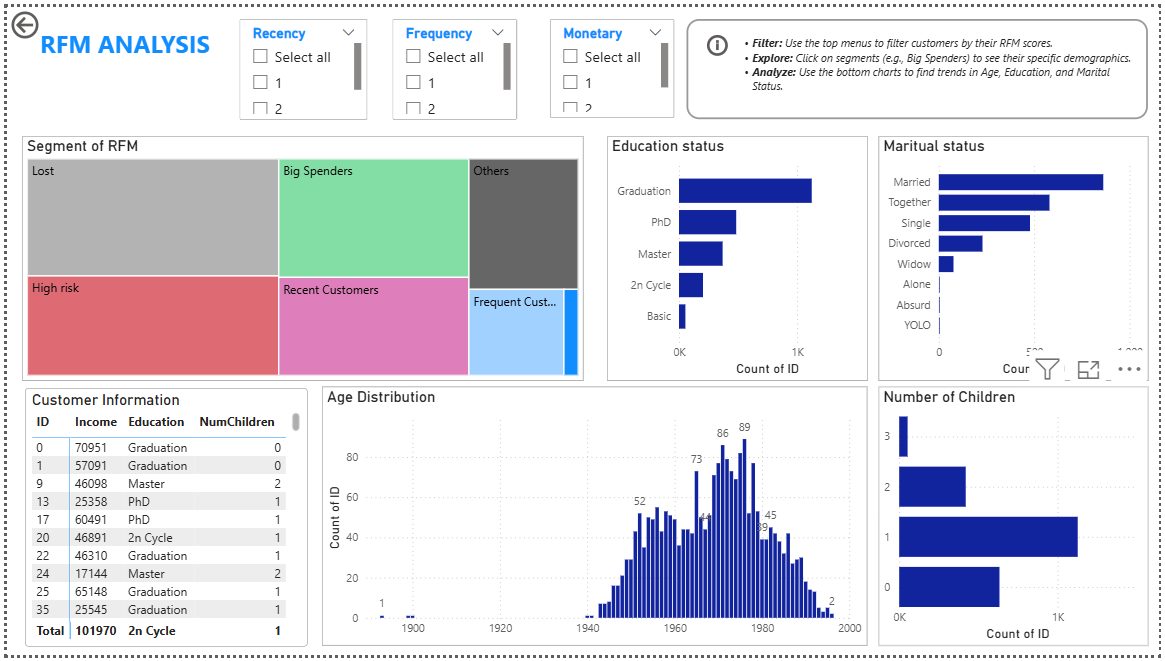

What the dashboard file says about the page in this screenshot:
{"tool":"powerbi","page":{"name":"RFM Analysis","canvas":[1280,720],"ordinal":1},"visuals":[{"type":"textbox","box":[32,16,256,48],"z":0},{"type":"treemap","title":"Segment of RFM","fields":{"Group":["CrmData_RfmAnalysis.Segment"],"Values":["CountNonNull(CrmData_RfmAnalysis.ID)"]},"box":[16,144,624,272],"z":1000},{"type":"slicer","fields":{"Values":["CrmData_RfmAnalysis.R_Score"]},"box":[258,14,142,112],"z":2000},{"type":"barChart","title":"Education status","fields":{"Category":["CrmData_RfmAnalysis.Education"],"Y":["CountNonNull(CrmData_RfmAnalysis.ID)"]},"box":[666,144,290,272],"z":3000},{"type":"columnChart","title":"Age Distribution","fields":{"Category":["CrmData_RfmAnalysis.Year_Birth"],"Y":["CountNonNull(CrmData_RfmAnalysis.ID)"]},"box":[350,422,606,288],"z":4000},{"type":"pivotTable","title":"Customer Information","fields":{"Rows":["CrmData_RfmAnalysis.ID"],"Values":["Min(CrmData_RfmAnalysis.Income)","Min(CrmData_RfmAnalysis.Education)","Avg(CrmData_RfmAnalysis.TotalChildren)"]},"box":[20,422.5,313.8,287.5],"z":5000},{"type":"actionButton","box":[773,26.7,32,32],"z":6000},{"type":"textbox","box":[755.7,12.9,512.9,111.4],"z":7000},{"type":"textbox","box":[805.7,27.1,451.4,80],"z":8000},{"type":"slicer","fields":{"Values":["CrmData_RfmAnalysis.F_Score"]},"box":[428,14,138,112],"z":9000},{"type":"slicer","fields":{"Values":["CrmData_RfmAnalysis.M_Score"]},"box":[604,14,138,110],"z":10000},{"type":"barChart","title":"Maritual status","fields":{"Category":["CrmData_RfmAnalysis.Marital_Status"],"Y":["CountNonNull(CrmData_RfmAnalysis.ID)"]},"box":[968,144,300,272],"z":11000},{"type":"actionButton","box":[0,0,100,40],"z":12000},{"type":"barChart","title":"Number of Children","fields":{"Category":["CrmData_RfmAnalysis.TotalChildren"],"Y":["CountNonNull(CrmData_RfmAnalysis.ID)"]},"box":[968,422,300,288],"z":13000}]}

Visuals, with their boxes in screenshot pixels (x1, y1, x2, y2), scaled from the page's 1280x720 canvas onto the 1165x661 screenshot:
textbox: crop(29, 15, 262, 59)
"Segment of RFM" treemap: crop(15, 132, 582, 382)
slicer - CrmData_RfmAnalysis.R_Score: crop(235, 13, 364, 116)
"Education status" barChart: crop(606, 132, 870, 382)
"Age Distribution" columnChart: crop(319, 387, 870, 652)
"Customer Information" pivotTable: crop(18, 388, 304, 652)
actionButton: crop(704, 25, 733, 54)
textbox: crop(688, 12, 1155, 114)
textbox: crop(733, 25, 1144, 98)
slicer - CrmData_RfmAnalysis.F_Score: crop(390, 13, 515, 116)
slicer - CrmData_RfmAnalysis.M_Score: crop(550, 13, 675, 114)
"Maritual status" barChart: crop(881, 132, 1154, 382)
actionButton: crop(0, 0, 91, 37)
"Number of Children" barChart: crop(881, 387, 1154, 652)
